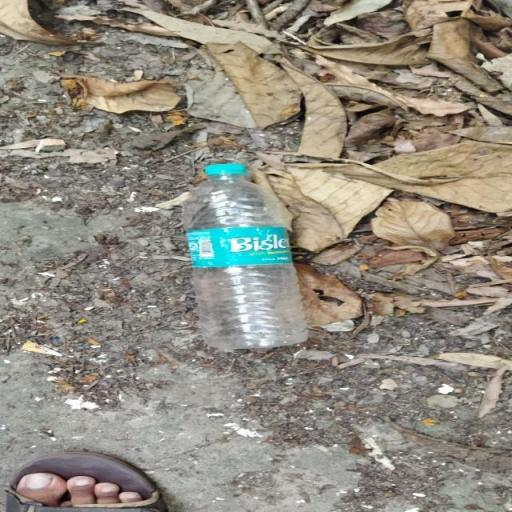plastic: (180, 162, 310, 350)
